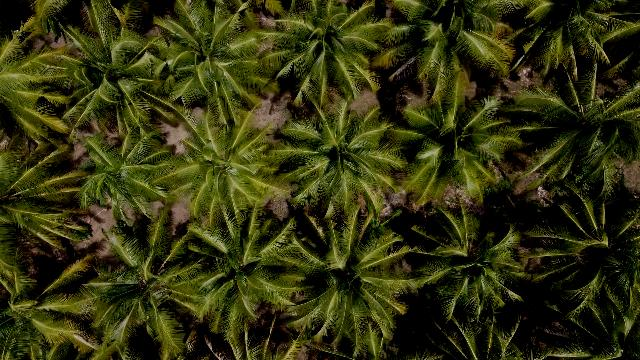trees: (17, 4, 210, 152), (273, 202, 423, 357), (516, 192, 640, 357), (81, 211, 214, 350), (140, 1, 280, 131), (503, 72, 638, 199), (371, 2, 519, 115), (274, 98, 408, 221), (386, 91, 524, 207), (405, 204, 532, 323), (262, 2, 390, 111), (1, 231, 109, 358), (71, 123, 190, 223), (3, 139, 99, 253), (423, 304, 534, 360), (216, 314, 309, 360), (2, 305, 49, 359)
